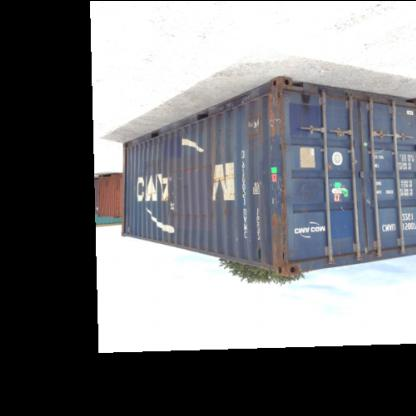Damage: (264, 154, 294, 272), (262, 84, 288, 154), (209, 99, 238, 131), (158, 160, 209, 178), (159, 208, 213, 224), (128, 134, 168, 154), (242, 106, 258, 146), (296, 90, 316, 116), (209, 172, 239, 188), (334, 196, 349, 219), (144, 190, 160, 198)
